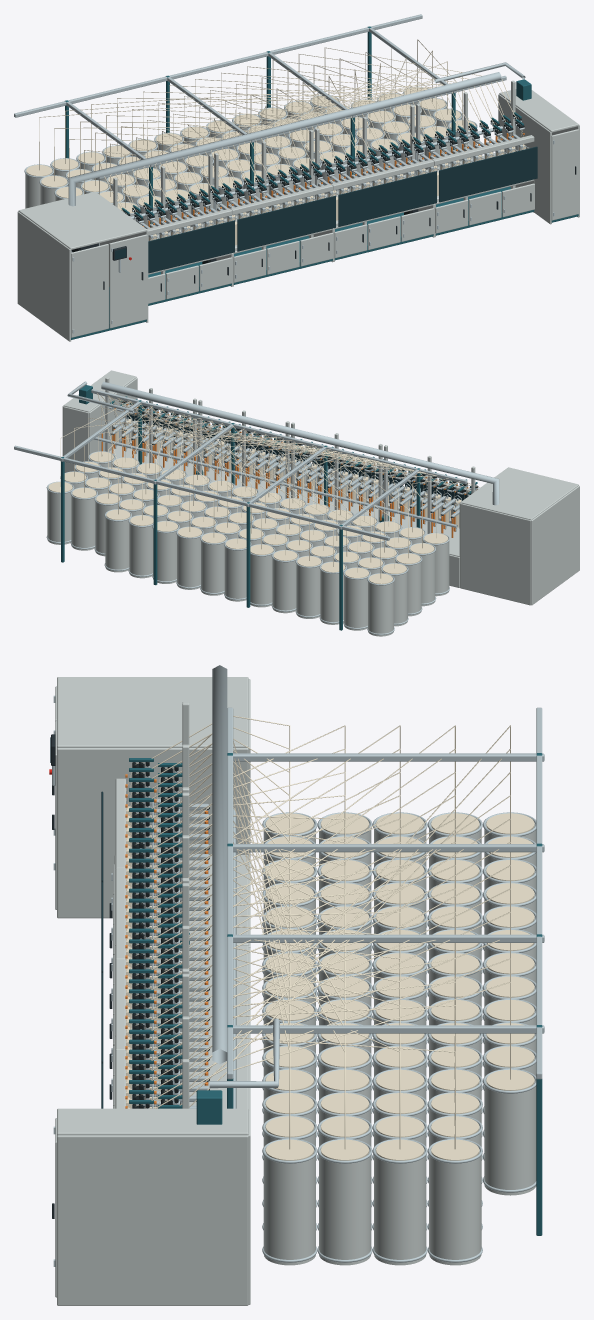
The model's file is roving.glb.
The picture shows the model from 3 angles, top to bottom: view 1: azimuth 30°, elevation 25°; view 2: azimuth 150°, elevation 25°; view 3: azimuth 270°, elevation 25°; orthographic projection. The views are drawn at different scales.
Visible parts, largest first — view 1: F40_drive_end_end, F40_drive_end_roof, F40_suction_main, F40_drive_end_door, F40_glazed_guard.002, F40_glazed_guard.001, F40_glazed_guard.003, F40_drive_end_door.001, F40_glazed_guard, F40_transfer_end_door, F40_transfer_end_end, F40_creel_longbeam.001 (+31 smaller); view 2: F40_drive_end_rear, F40_drive_end_end, F40_drive_end_roof, F40_suction_main, F40_creel_longbeam.001, F40_creel_longbeam, F40_internal_transport, F40_transfer_end_rear, can_body.060, can_body.058, can_body.063, can_body.071 (+35 smaller); view 3: F40_transfer_end_end.001, F40_drive_end_end.001, F40_drive_end_roof, F40_suction_main, can_body.071, can_body.059, can_body.044, can_body.029, can_body.014, F40_transfer_end_roof, F40_creel_crossbeam, F40_creel_crossbeam.002 (+48 smaller).
Boxes of the visible parts, x1=… form: F40_drive_end_end: x1=17, y1=211, x2=71, y2=341; F40_drive_end_roof: x1=18, y1=191, x2=147, y2=249; F40_suction_main: x1=68, y1=72, x2=501, y2=252; F40_drive_end_door: x1=71, y1=244, x2=108, y2=337; F40_glazed_guard.002: x1=338, y1=171, x2=436, y2=226; F40_glazed_guard.001: x1=237, y1=195, x2=335, y2=251; F40_glazed_guard.003: x1=439, y1=146, x2=537, y2=202; F40_drive_end_door.001: x1=109, y1=234, x2=147, y2=328; F40_glazed_guard: x1=148, y1=220, x2=234, y2=273; F40_transfer_end_door: x1=551, y1=129, x2=578, y2=220; F40_transfer_end_end: x1=498, y1=94, x2=551, y2=224; F40_creel_longbeam.001: x1=14, y1=14, x2=422, y2=117; F40_drive_end_rear: x1=460, y1=503, x2=531, y2=605; F40_drive_end_end: x1=531, y1=485, x2=579, y2=605; F40_drive_end_roof: x1=460, y1=467, x2=578, y2=520; F40_suction_main: x1=101, y1=381, x2=499, y2=505; F40_creel_longbeam.001: x1=14, y1=445, x2=389, y2=540; F40_creel_longbeam: x1=91, y1=389, x2=467, y2=484; F40_internal_transport: x1=93, y1=437, x2=457, y2=527; F40_transfer_end_rear: x1=63, y1=406, x2=88, y2=472; can_body.060: x1=368, y1=578, x2=393, y2=636; can_body.058: x1=71, y1=493, x2=96, y2=550; can_body.063: x1=296, y1=561, x2=321, y2=618; can_body.071: x1=105, y1=514, x2=130, y2=572; F40_transfer_end_end.001: x1=57, y1=1135, x2=248, y2=1305; F40_drive_end_end.001: x1=57, y1=748, x2=248, y2=918; F40_drive_end_roof: x1=57, y1=677, x2=248, y2=747; F40_suction_main: x1=212, y1=665, x2=227, y2=1064; can_body.071: x1=484, y1=1079, x2=536, y2=1195; can_body.059: x1=429, y1=1149, x2=481, y2=1265; can_body.044: x1=374, y1=1149, x2=426, y2=1265; can_body.029: x1=319, y1=1149, x2=371, y2=1265; can_body.014: x1=263, y1=1149, x2=315, y2=1265; F40_transfer_end_roof: x1=57, y1=1108, x2=248, y2=1135; F40_creel_crossbeam: x1=233, y1=753, x2=544, y2=761; F40_creel_crossbeam.002: x1=233, y1=934, x2=544, y2=942.
Size of the model in its own units: 10.53 by 2.4 by 4.8.
